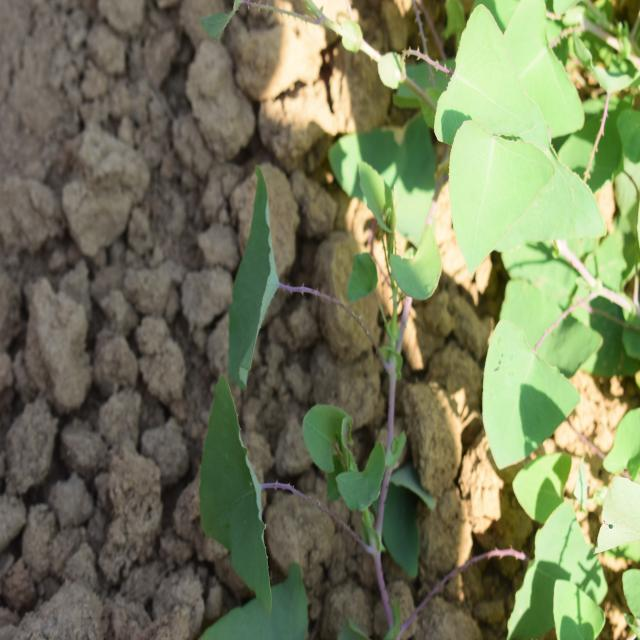Asiatic_Smartweed: (192, 164, 404, 583), (454, 6, 620, 460)
